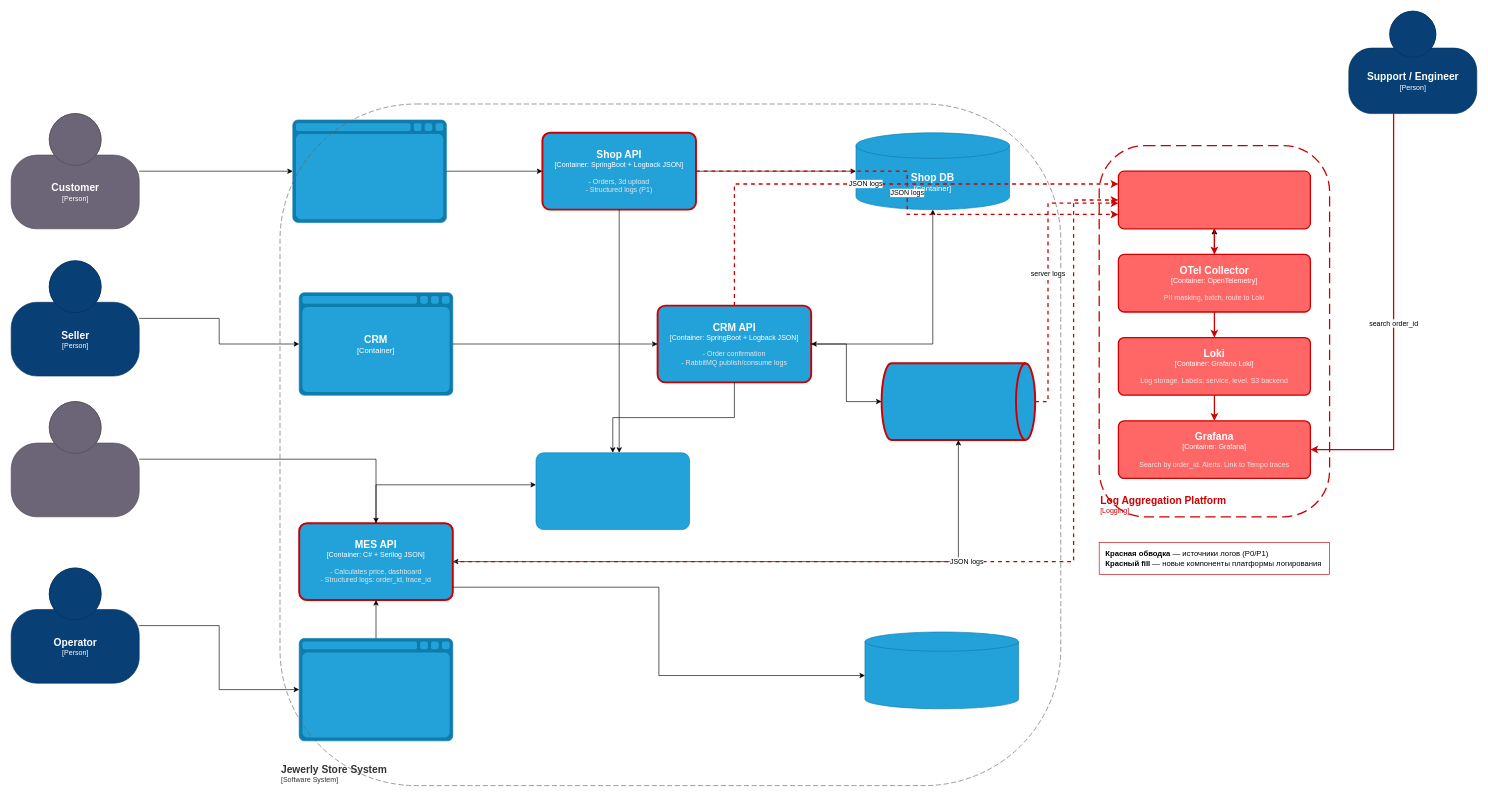
Image size: 1488x797. Some labels were removed from this diagram. Each missing label, with the centre of its shape:
"3d files storage [Container]" belongs at point (612, 491).
"API user [Person]" belongs at point (75, 459).
"Fluent Bit [Container: Log agent] On each EC2. Collects stdout JSON logs" belongs at point (1214, 199).
"Internet Shop [Container]" belongs at point (369, 170).
"MES [Container]" belongs at point (376, 689).
"MES db [Container]" belongs at point (941, 670).
"Messages Queue [Container: RabbitMQ] Server logs: publish, consume, DLQ" belongs at point (958, 401).
